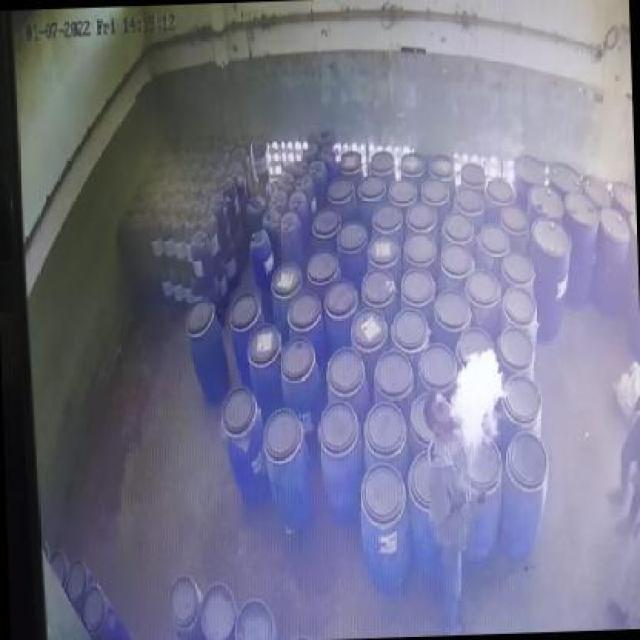fire: (450, 341, 508, 454)
